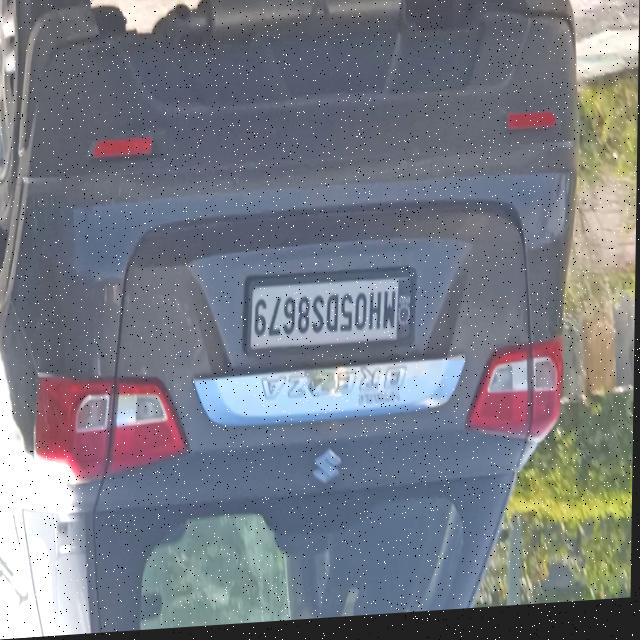plate: (246, 274, 418, 362)
